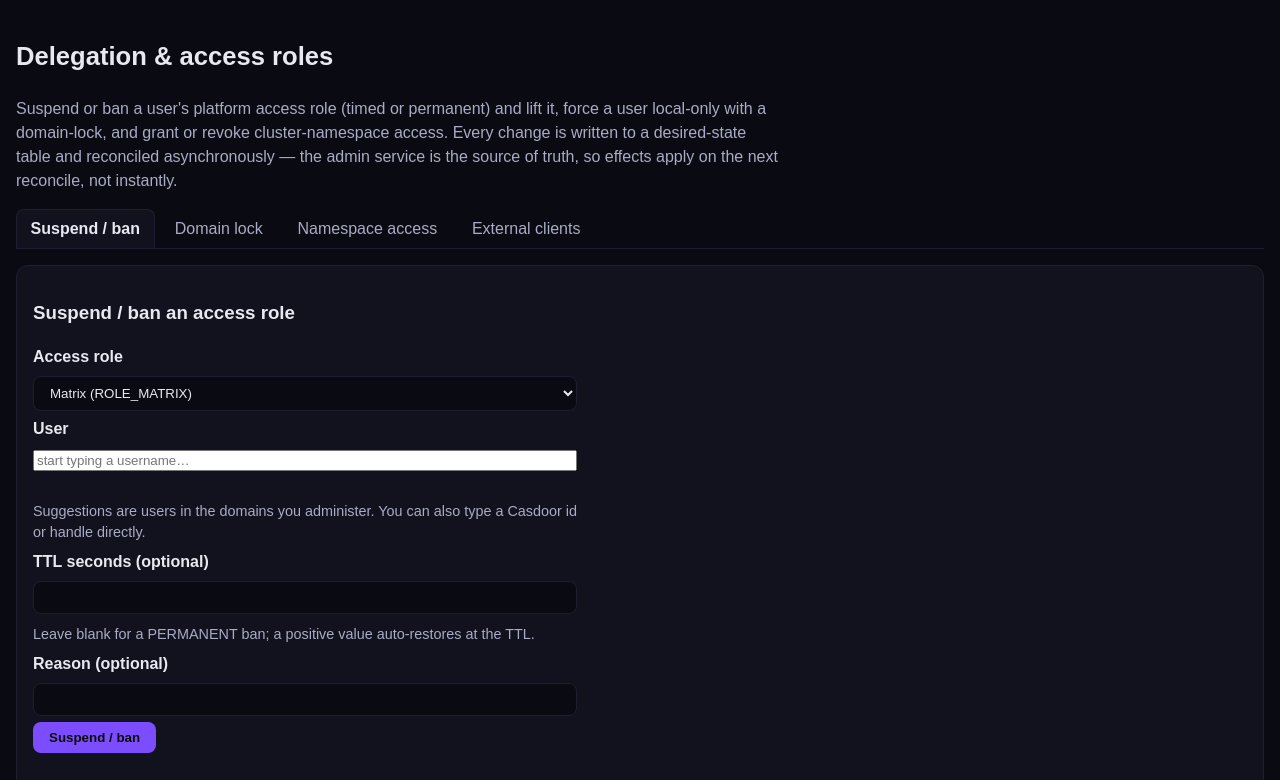
Test case: DelegationComponent › KEYBOARD operability (tablist roving tabindex + Arrow keys) › clicking a tab (native button = Enter/Space) selects its panel
Click the tab "Namespace access": (367, 229) top-left (283, 209), bottom-right (452, 248)
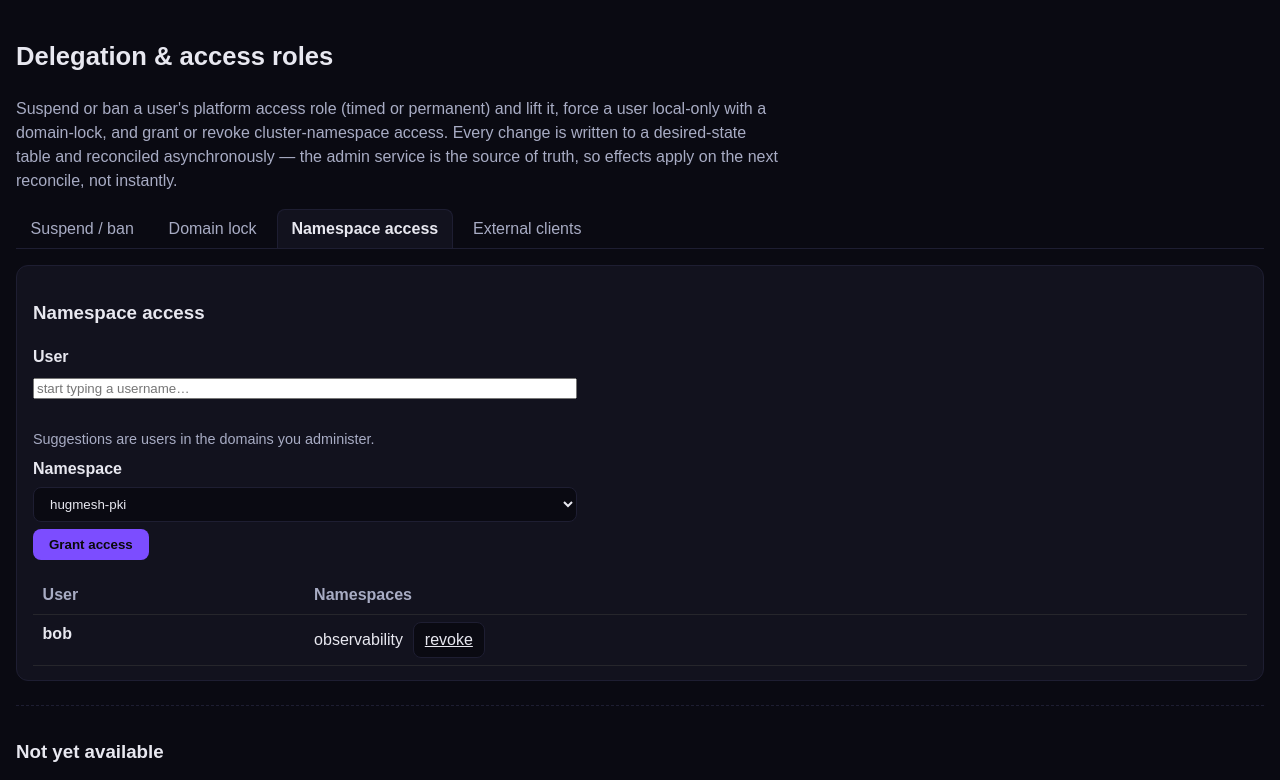
Now the panel with test id "dg-panel-namespaces" is shown, box top-left (16, 265), bottom-right (1264, 681)
